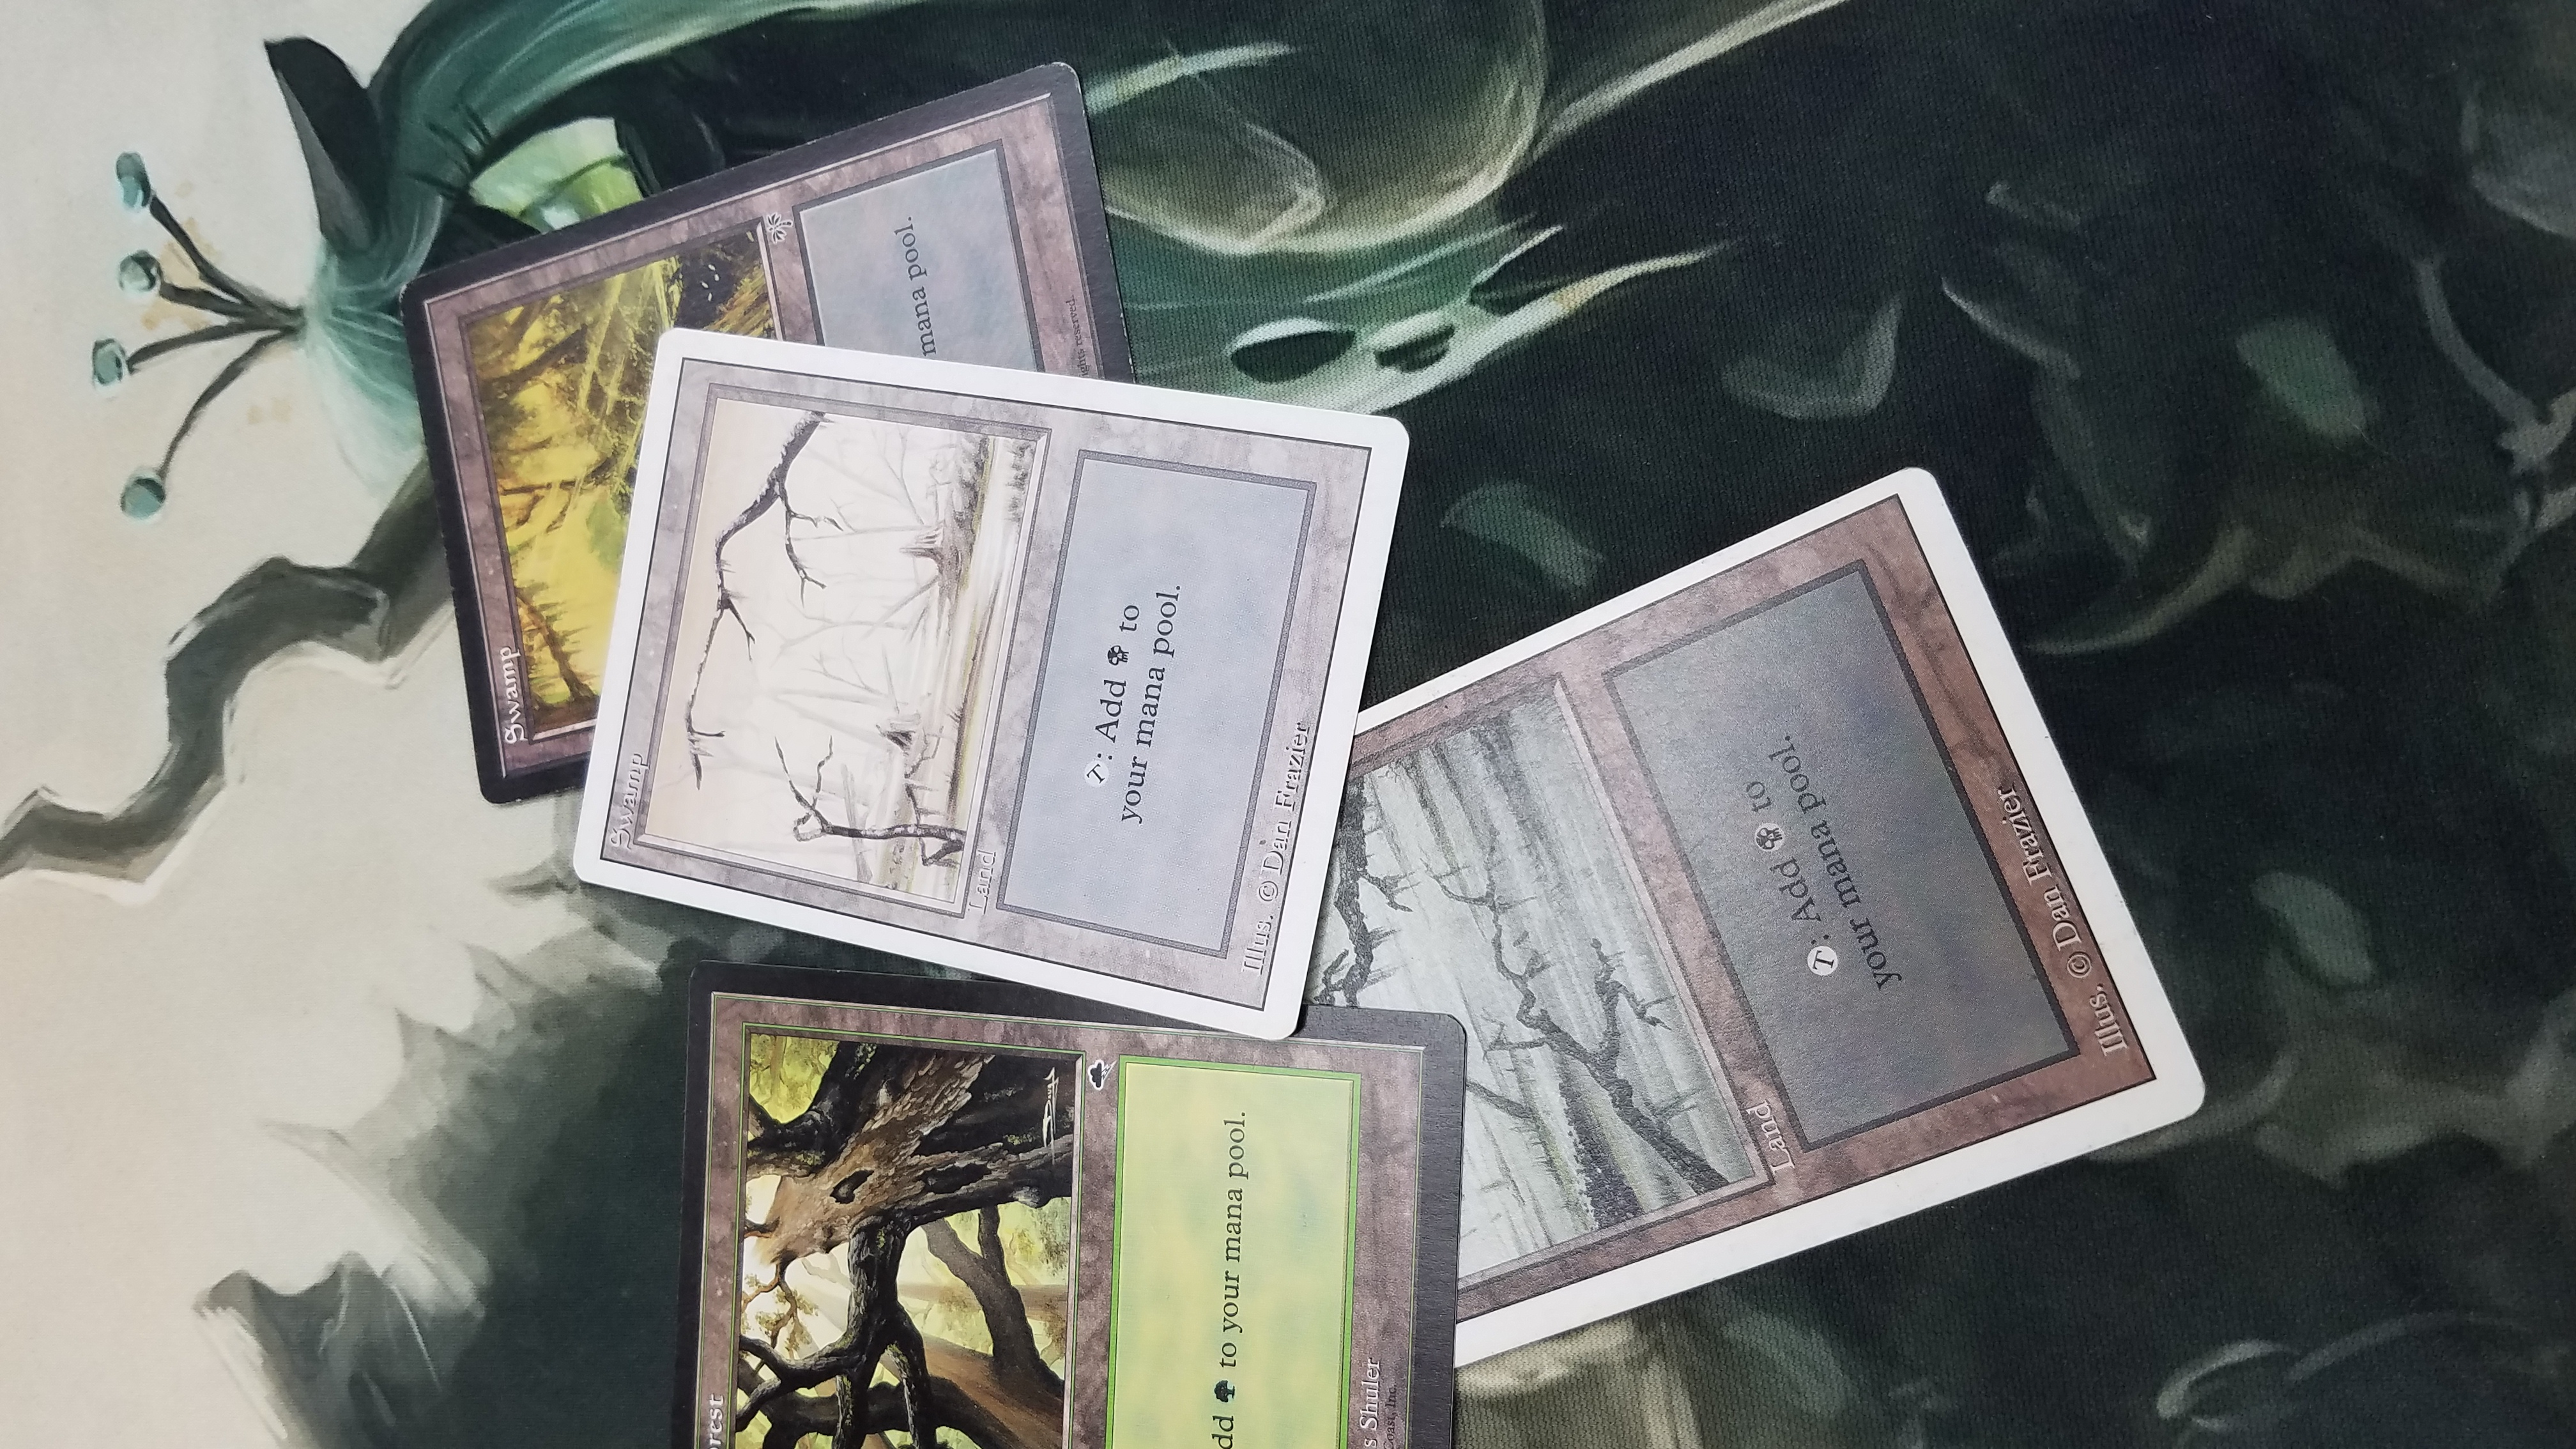Card: (570, 324, 1407, 1044), (389, 57, 1159, 805)
